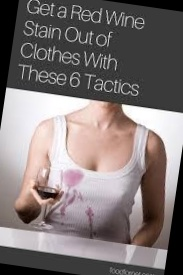wine: (76, 198, 108, 238), (56, 186, 81, 225), (54, 165, 88, 193)
